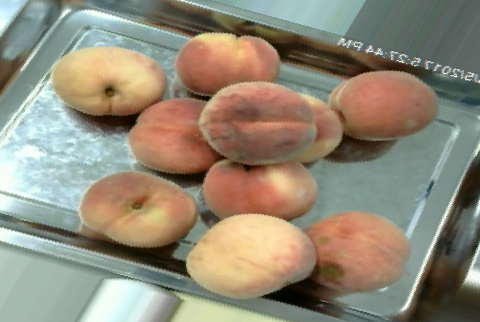Peach: (186, 212, 316, 298), (78, 170, 199, 246), (197, 85, 317, 160), (306, 209, 409, 294), (50, 44, 163, 117), (127, 94, 224, 174), (200, 157, 317, 220), (330, 71, 436, 139), (173, 34, 282, 93)
